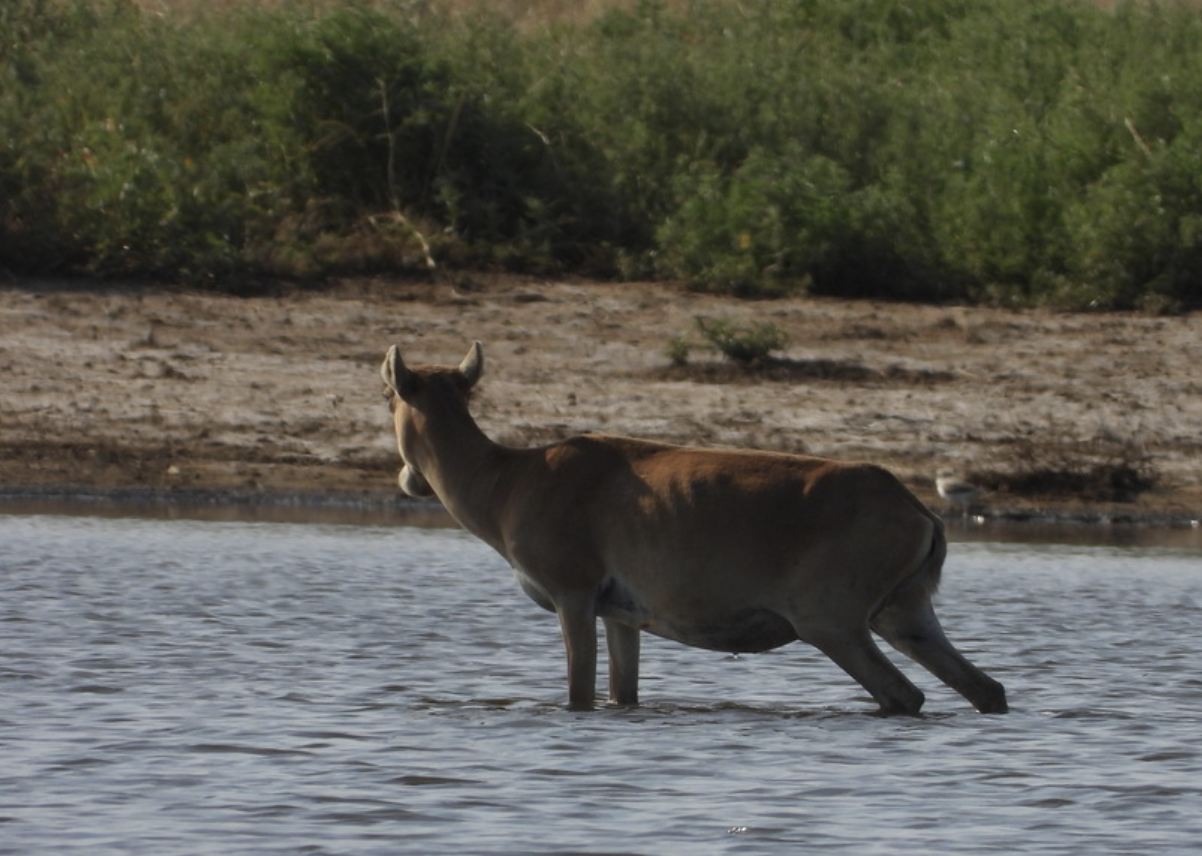saiga: (360, 315, 1042, 755)
